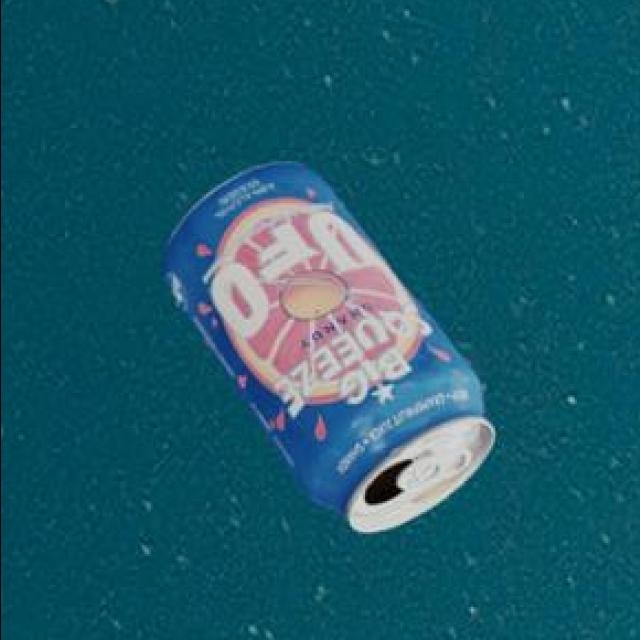logam: (167, 160, 498, 526)
